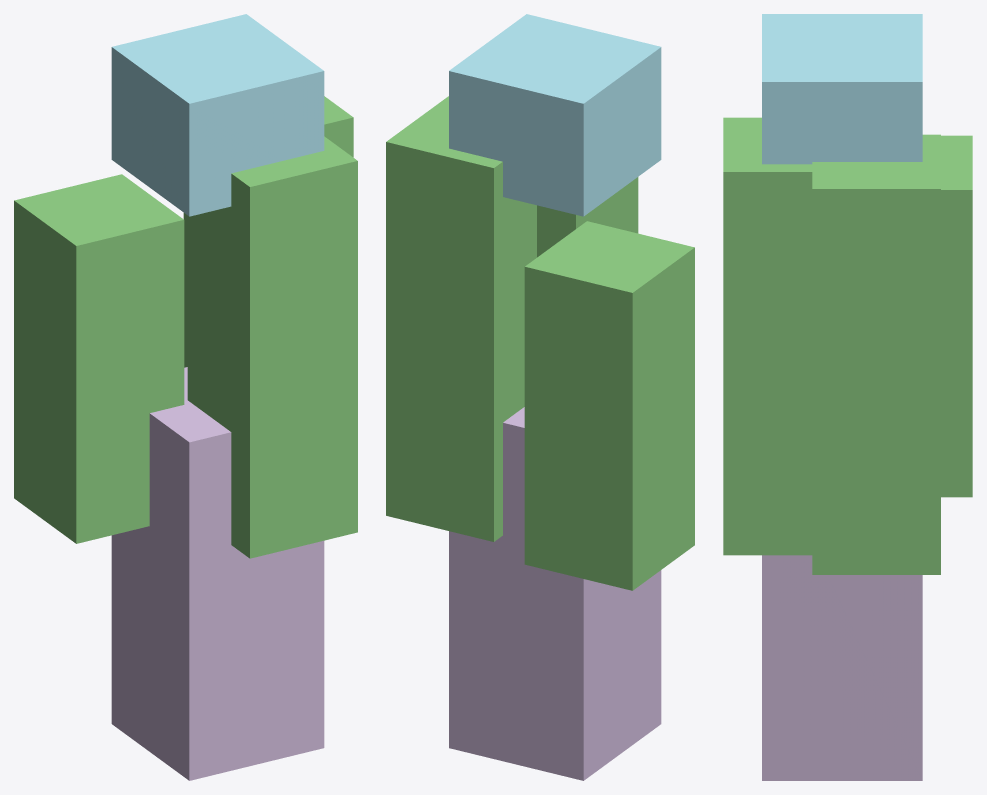
Rendered from Item_Herb_AMF_Starkibble_Bundle2.glb.
3 renders of one model, left to right at view 1: azimuth 30°, elevation 25°; view 2: azimuth 150°, elevation 25°; view 3: azimuth 270°, elevation 25°, orthographic. The views are drawn at different scales.
Visible parts, largest first — view 1: Item_Herb_AMF_Starkibble_Bundle2; view 2: Item_Herb_AMF_Starkibble_Bundle2; view 3: Item_Herb_AMF_Starkibble_Bundle2.
Boxes of the visible parts, x1,y1,x2,y2 form: Item_Herb_AMF_Starkibble_Bundle2: [14, 14, 357, 780]; Item_Herb_AMF_Starkibble_Bundle2: [386, 14, 694, 780]; Item_Herb_AMF_Starkibble_Bundle2: [723, 14, 972, 780].
Bounding box in the file's own units: 0.0971 × 0.24 × 0.0776.
